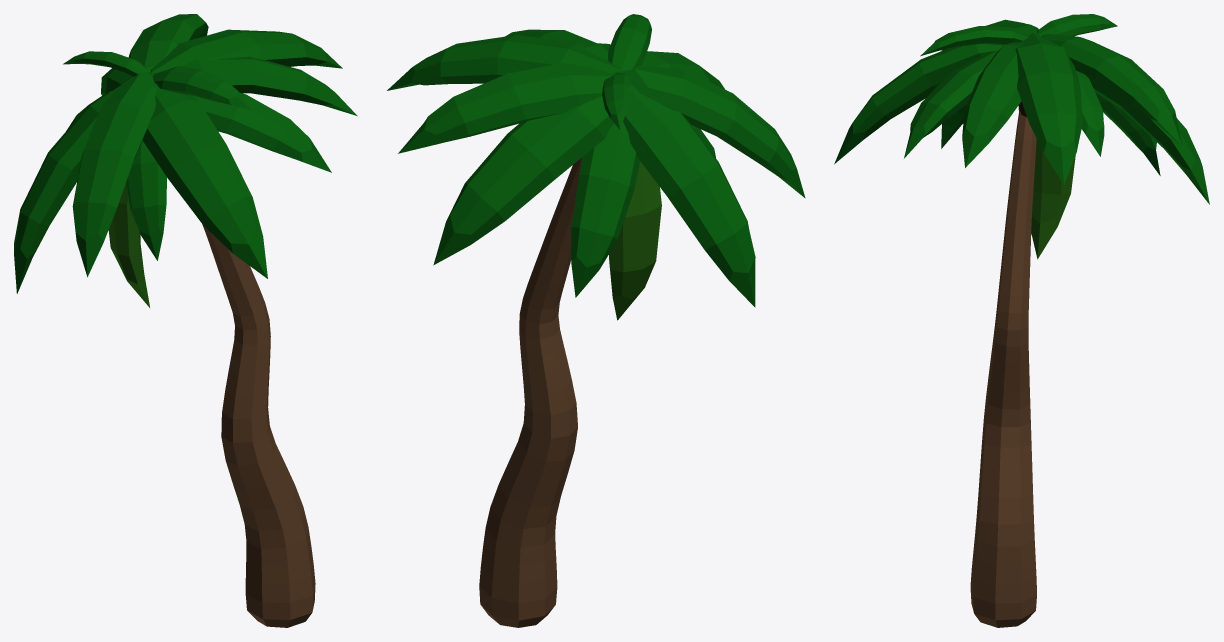
Rendered from lp_palm_1_Cube_035.obj.
3 renders of one model, left to right at view 1: azimuth 30°, elevation 25°; view 2: azimuth 150°, elevation 25°; view 3: azimuth 270°, elevation 25°, orthographic. The views are drawn at different scales.
Parts seen in each view (by area): view 1: lp_palm_1_Cube_035; view 2: lp_palm_1_Cube_035; view 3: lp_palm_1_Cube_035.
Part boxes in pixels (x1,y1,x2,y2): lp_palm_1_Cube_035: [14, 14, 357, 627]; lp_palm_1_Cube_035: [387, 14, 805, 627]; lp_palm_1_Cube_035: [834, 14, 1209, 627].
Bounding box in the file's own units: 8.07 × 13.23 × 8.17.
